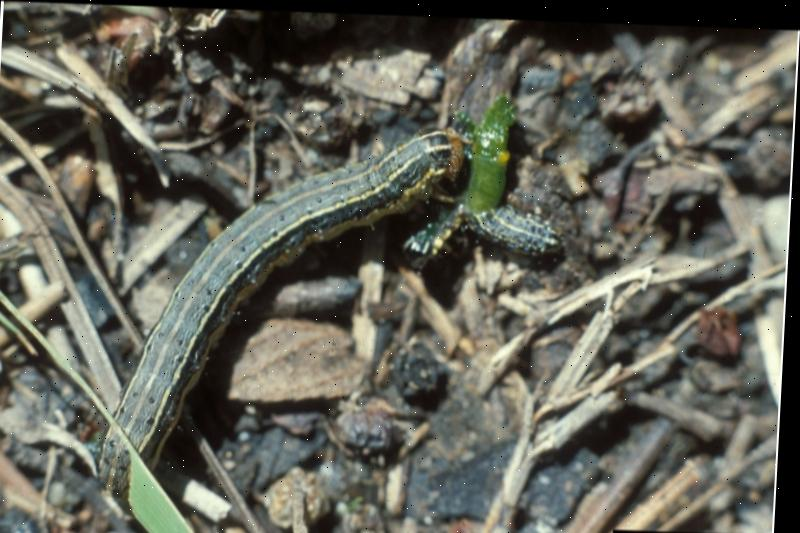fall-armyworm: (100, 124, 465, 500), (470, 92, 565, 252)
